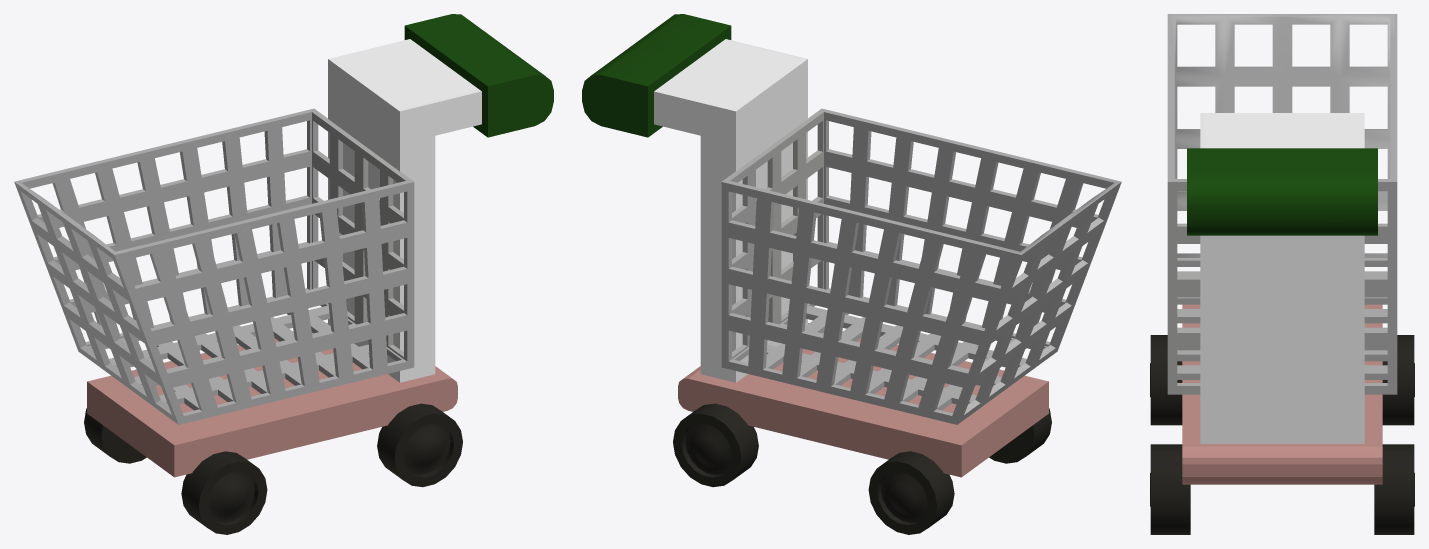
The model's file is cart.fbx.
3 renders of one model, left to right at view 1: azimuth 30°, elevation 25°; view 2: azimuth 150°, elevation 25°; view 3: azimuth 270°, elevation 25°, orthographic. The views are drawn at different scales.
Parts seen in each view (by area): view 1: cart; view 2: cart; view 3: cart.
Boxes of the visible parts, <box> form: cart: <box>14,14,553,534</box>; cart: <box>582,14,1121,534</box>; cart: <box>1150,14,1414,534</box>.
Size of the model in its own units: 0.7929 by 0.6248 by 0.3542.
